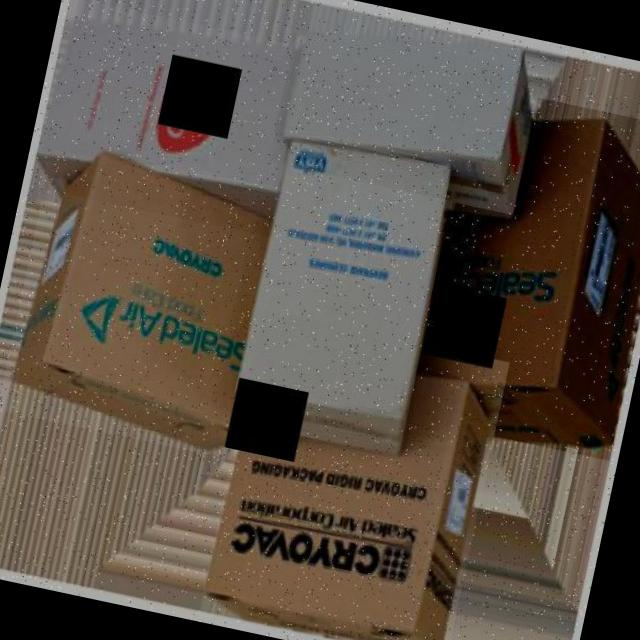box: (196, 309, 509, 640), (0, 137, 301, 462), (409, 83, 640, 460), (224, 127, 460, 456), (27, 0, 313, 237), (268, 0, 548, 213)
